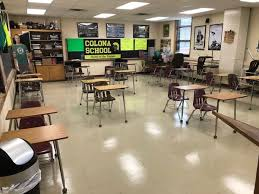desk: (0, 130, 73, 193), (202, 90, 245, 137), (90, 85, 130, 127), (170, 81, 206, 117), (4, 105, 60, 123), (13, 78, 45, 100)
